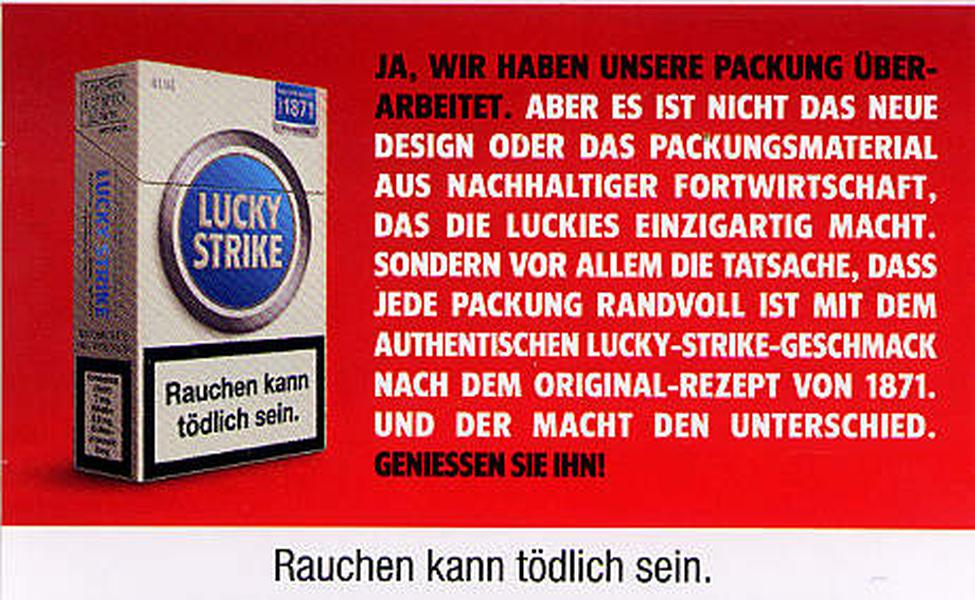lucky_strike_blue: (138, 89, 327, 453)
